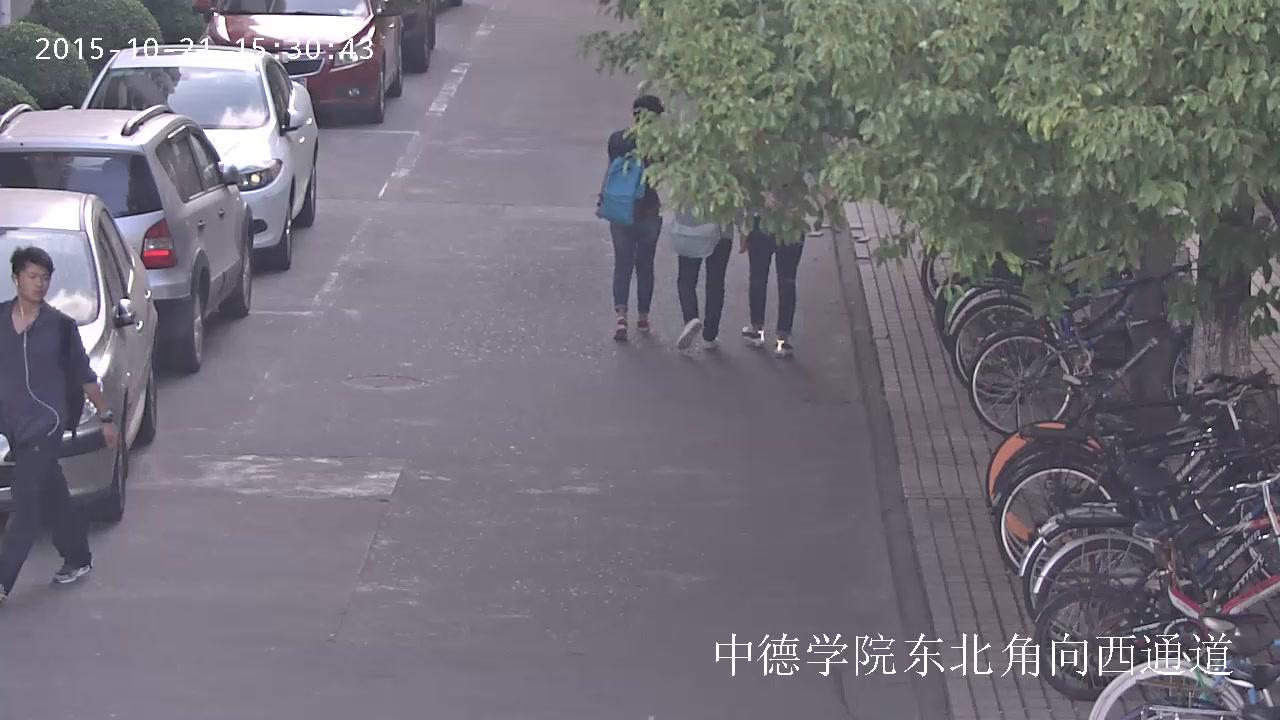face: (19, 260, 50, 301)
